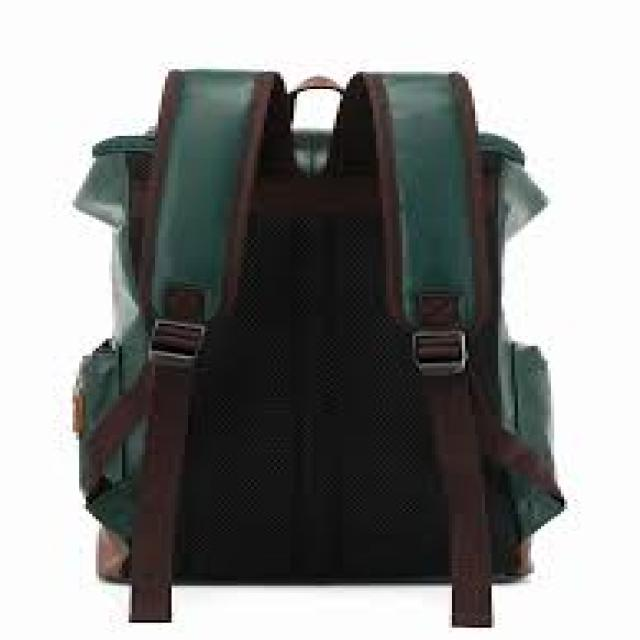backpack: (70, 68, 565, 626)
